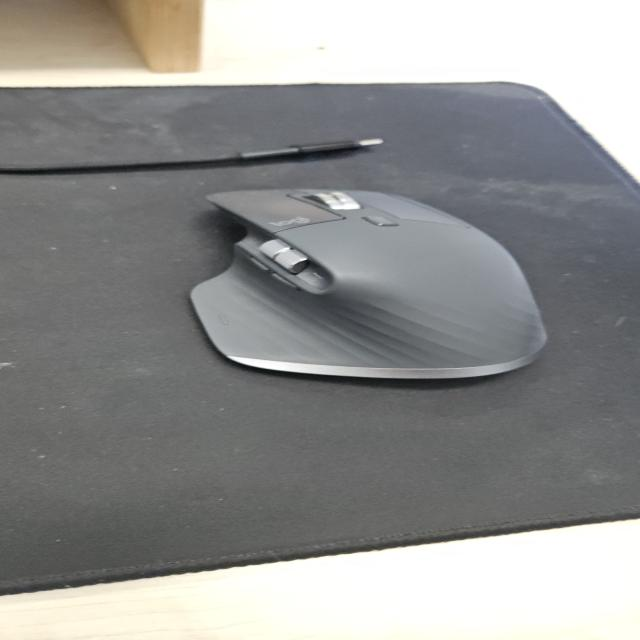Mouse: (186, 185, 551, 381)
